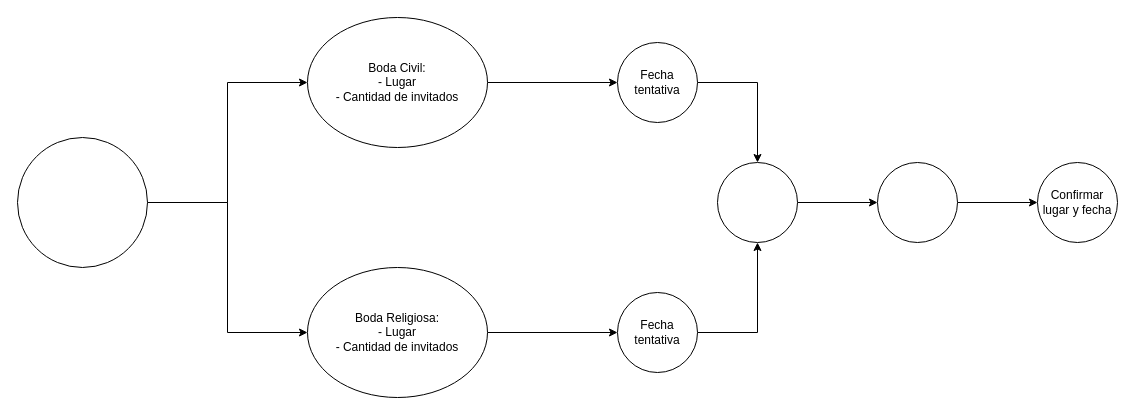
This 1135x415 diagram has some shape labels left out. The centre of each missing label's shape, as x and y in pixels:
"Definir detalles" goes at (917,202).
"Hablar con Padres" goes at (757,202).
"Numero aprox de invitados" goes at (82,202).
